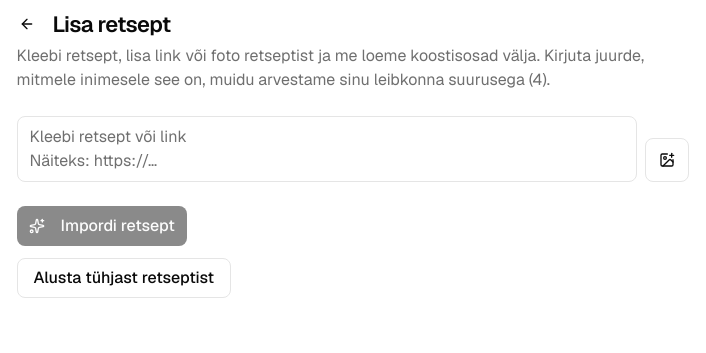
RecipeImportClient error localization › renders the Estonian timeout copy for a 504, not the server prose
Step 1. Type "https://example.com/recipe" into the text box → (326, 149), box [16,116,636,182]
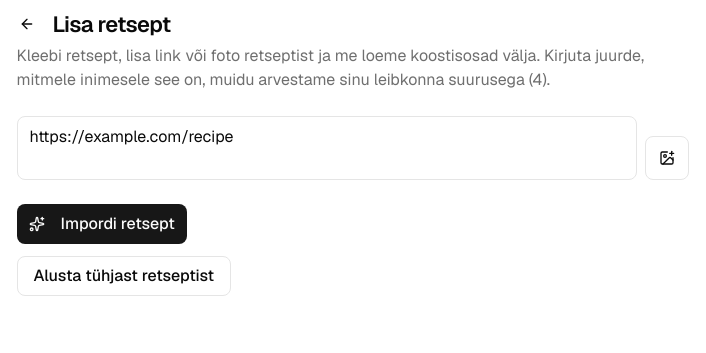
Step 2. Click the button "Impordi retsept" → (102, 224), box [16,204,187,244]
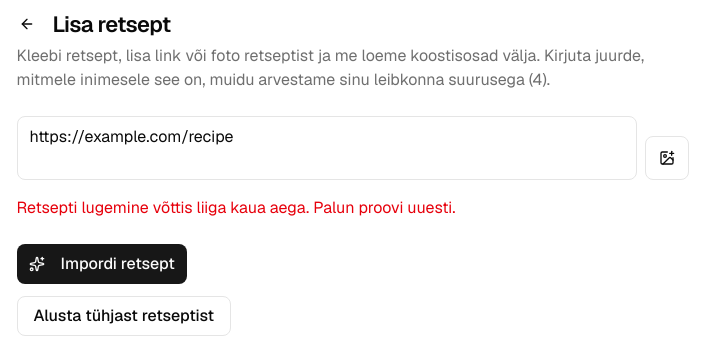
Check: the text "Retsepti lugemine võttis liiga kaua aega. Palun proovi uuesti." is shown, box [16,197,455,218]
